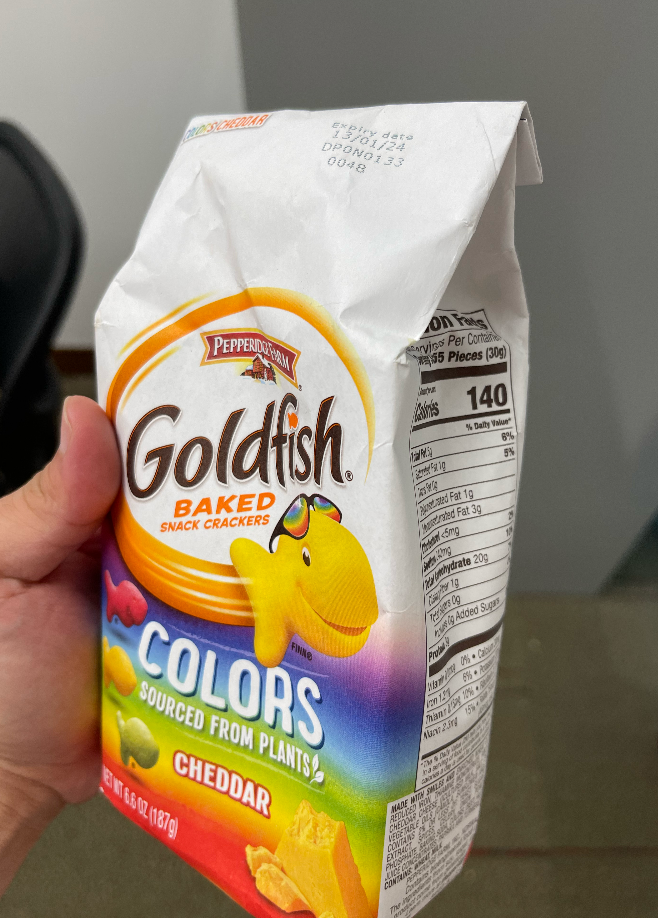crackers_100g-199g: (122, 257, 466, 881)
